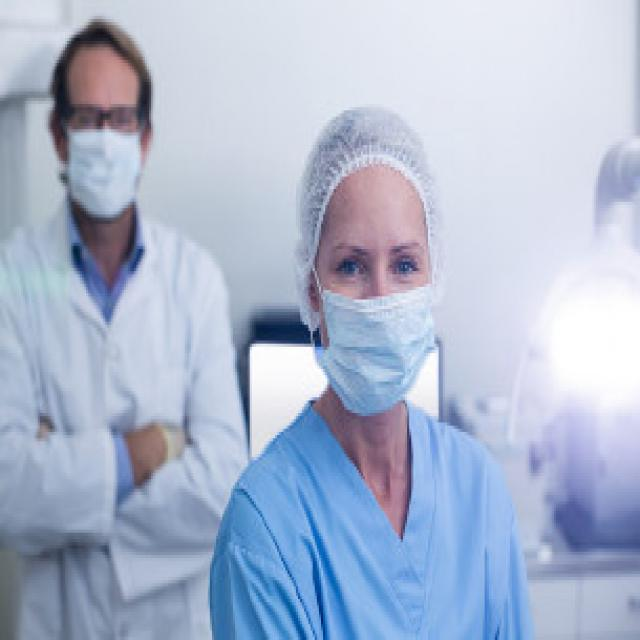mask: (316, 200, 427, 412), (63, 55, 138, 216)
